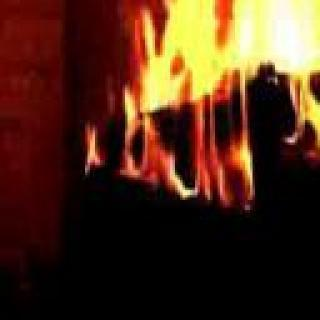fire: (176, 0, 320, 128)
